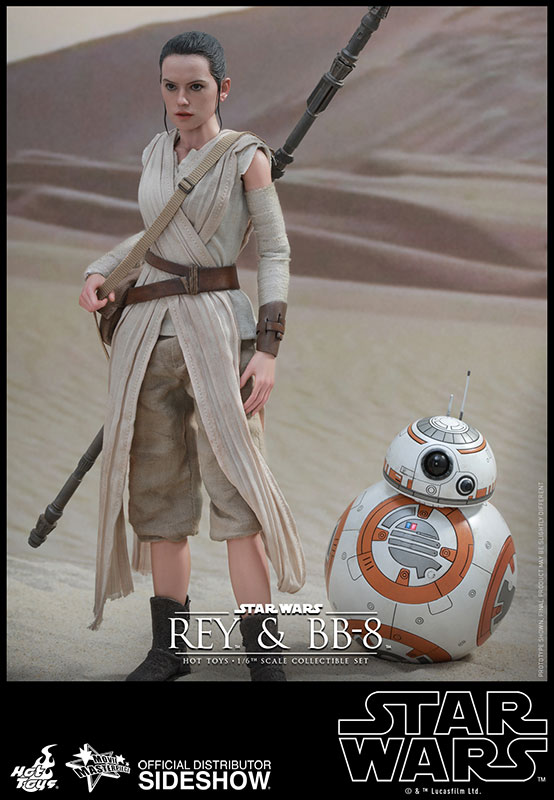bb8: (324, 414, 516, 663)
